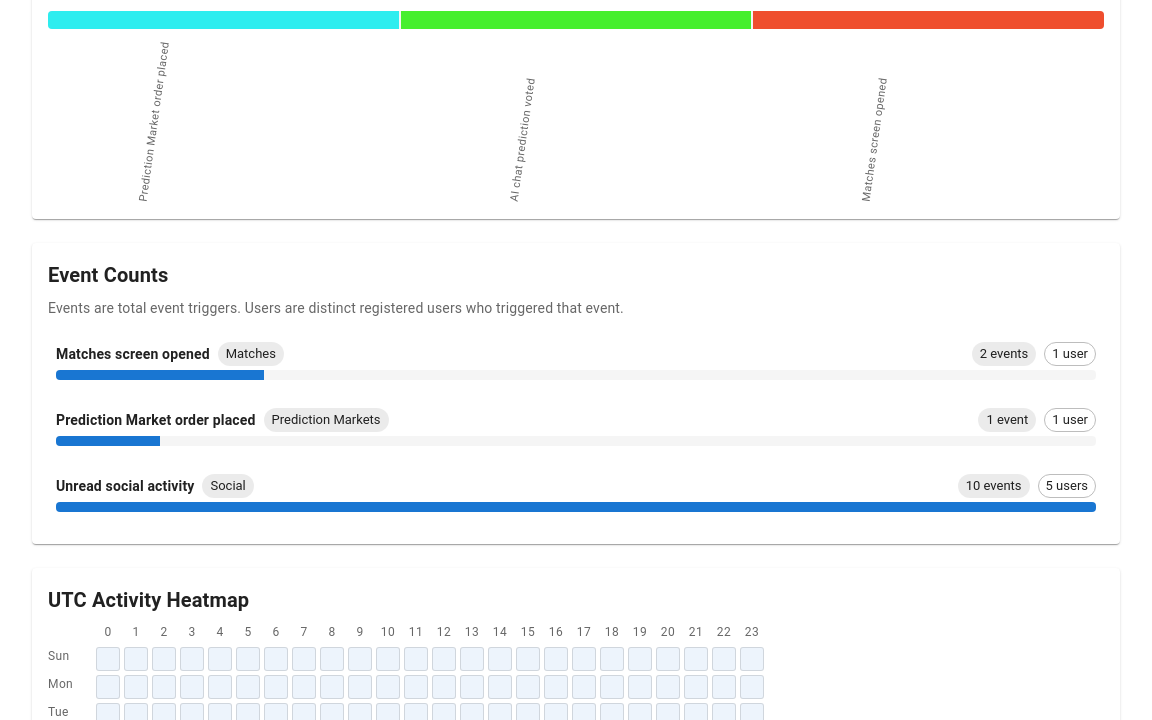
Test: AppEventsAnalyticsDashboard › opens a row breakdown dialog for non-social events
This screenshot has width=1152, height=720.
(page scrolled)
Click the button with aria-label "Open breakdown for Matches screen opened".
click(133, 354)  # box [48,334,1104,388]
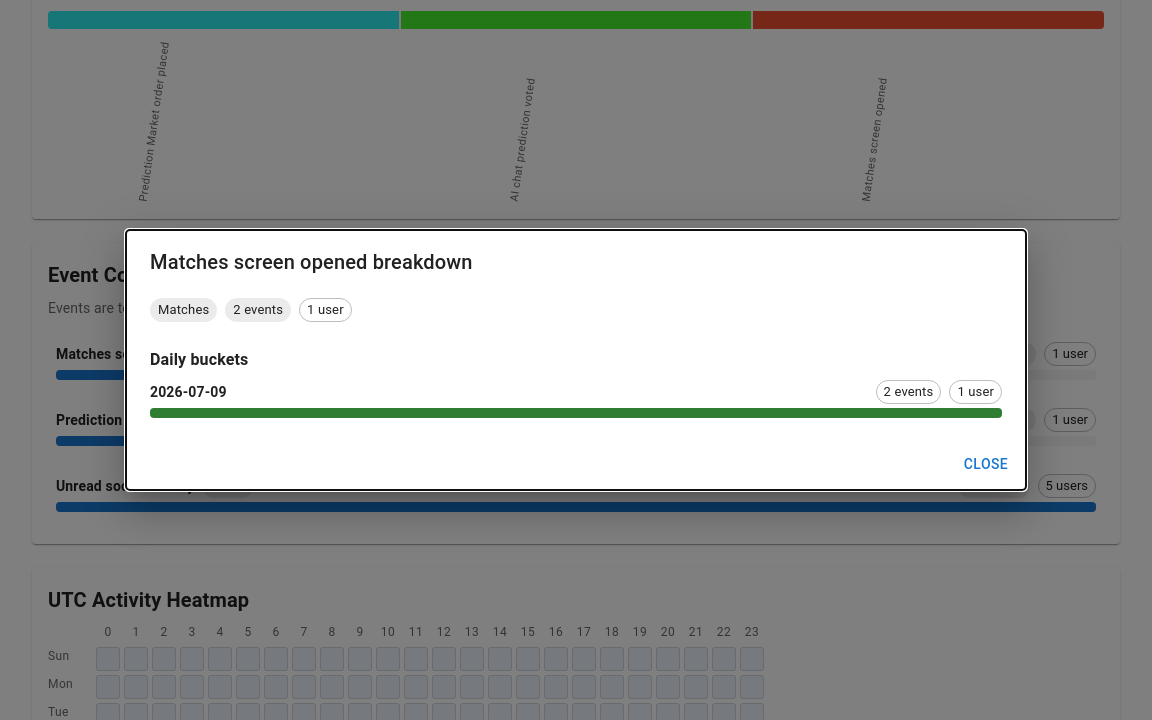
Check: the dialog "Matches screen opened breakdown" is shown, box [126,230,1026,490]
Check: the heading "Daily buckets" is shown, box [150,350,248,369]
Check: the text "2026-07-09" is shown, box [150,382,227,402]
